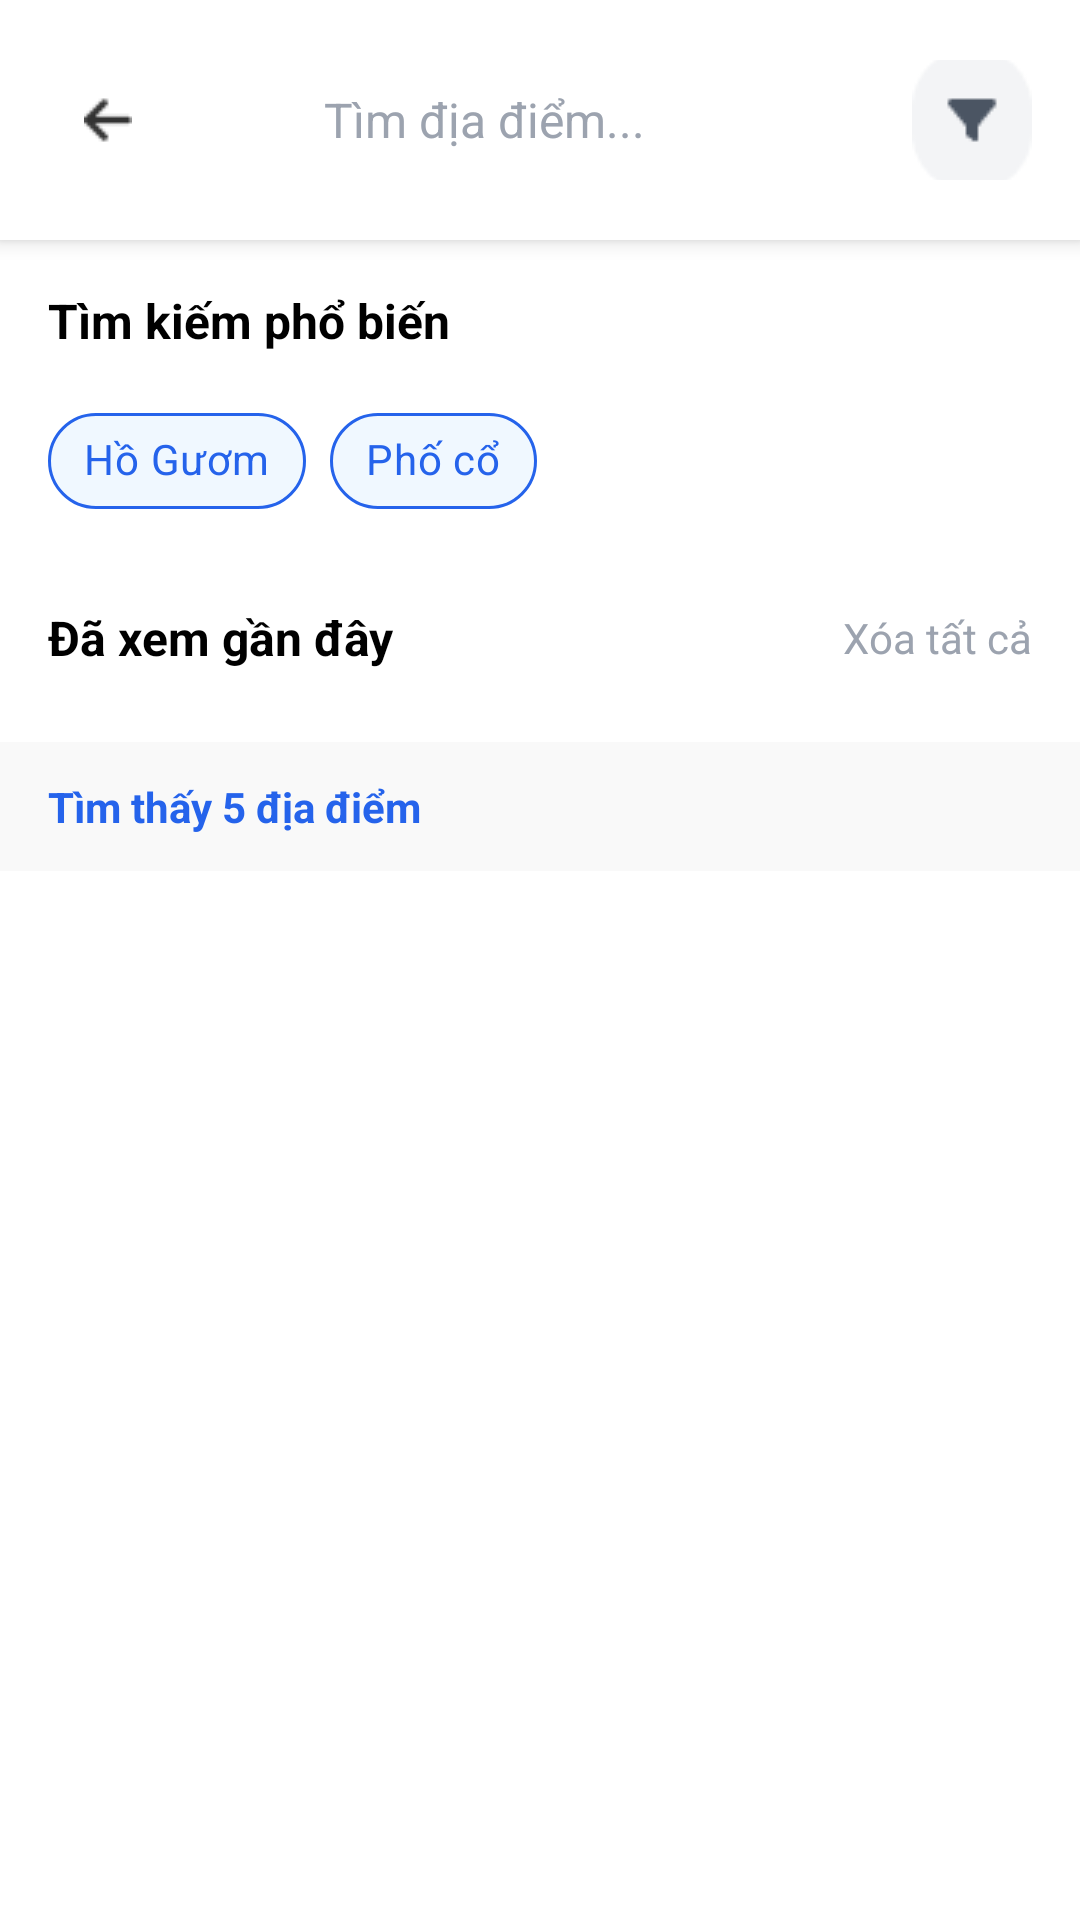

Named icons in this screenshot (1080px x 1920px) and their centers, (x=x, y=y):
back: (x=108, y=120)
filter: (x=972, y=120)
